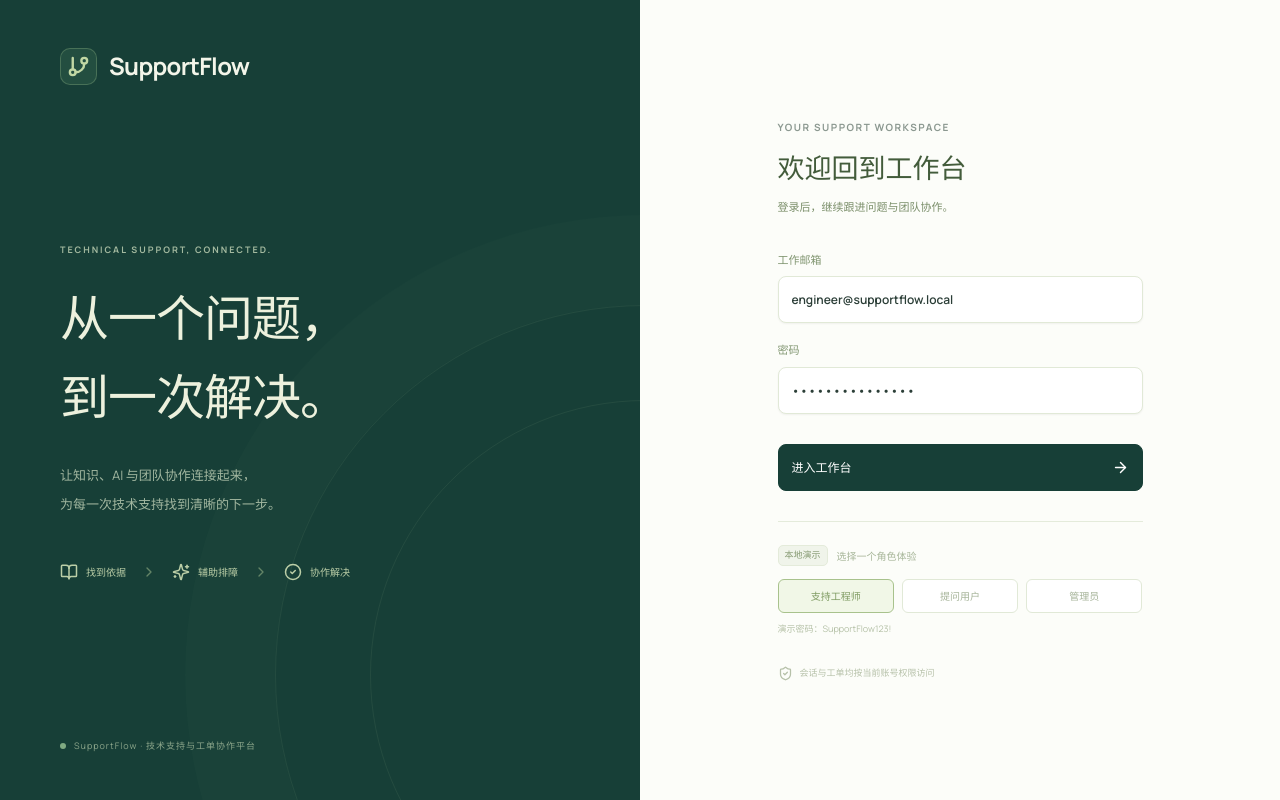
Test case: SupportFlow main workflows › keeps agent-generated drafts pending until the user confirms
Click the button "进入工作台".
click(822, 468)  # box [778,444,1142,491]
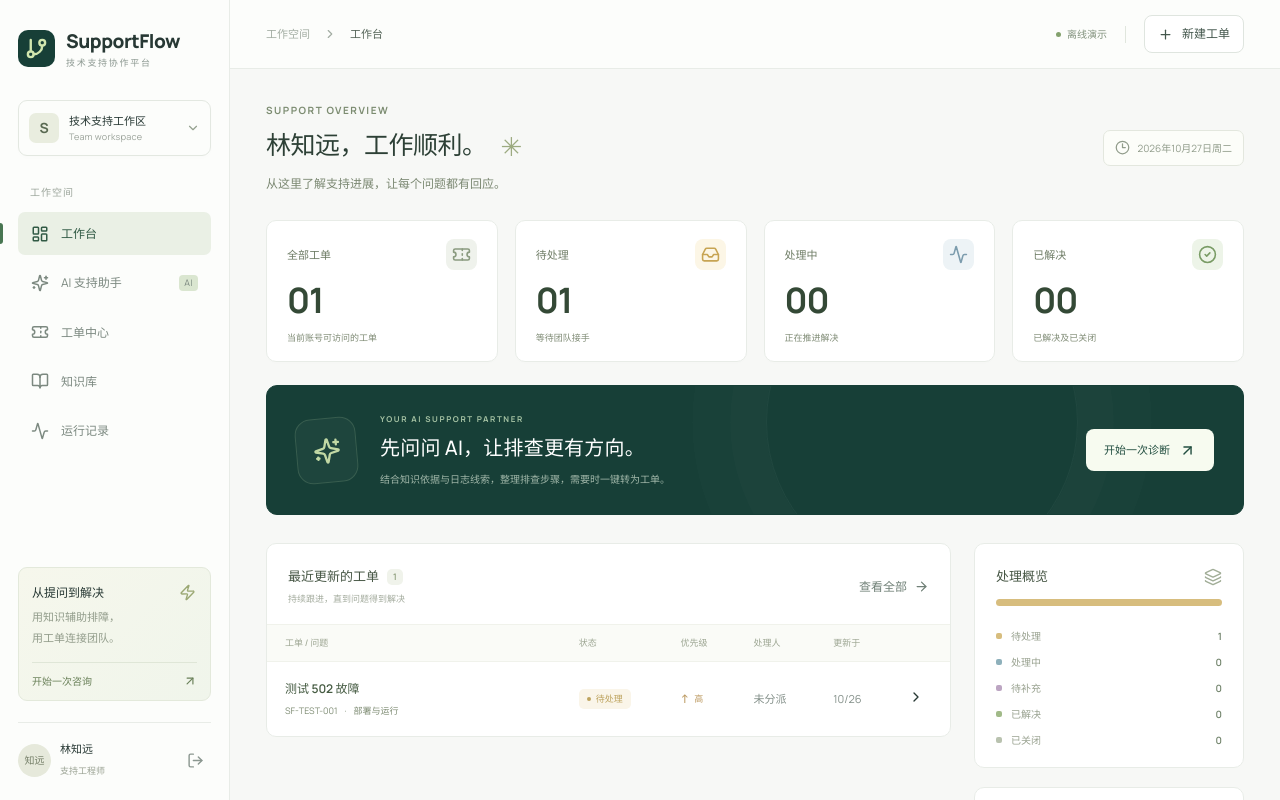
Now the heading "林知远，工作顺利。 ✳" is shown, box [266,125,522,168]
Click the button "AI 支持助手 AI".
click(114, 283)  # box [18,261,211,305]
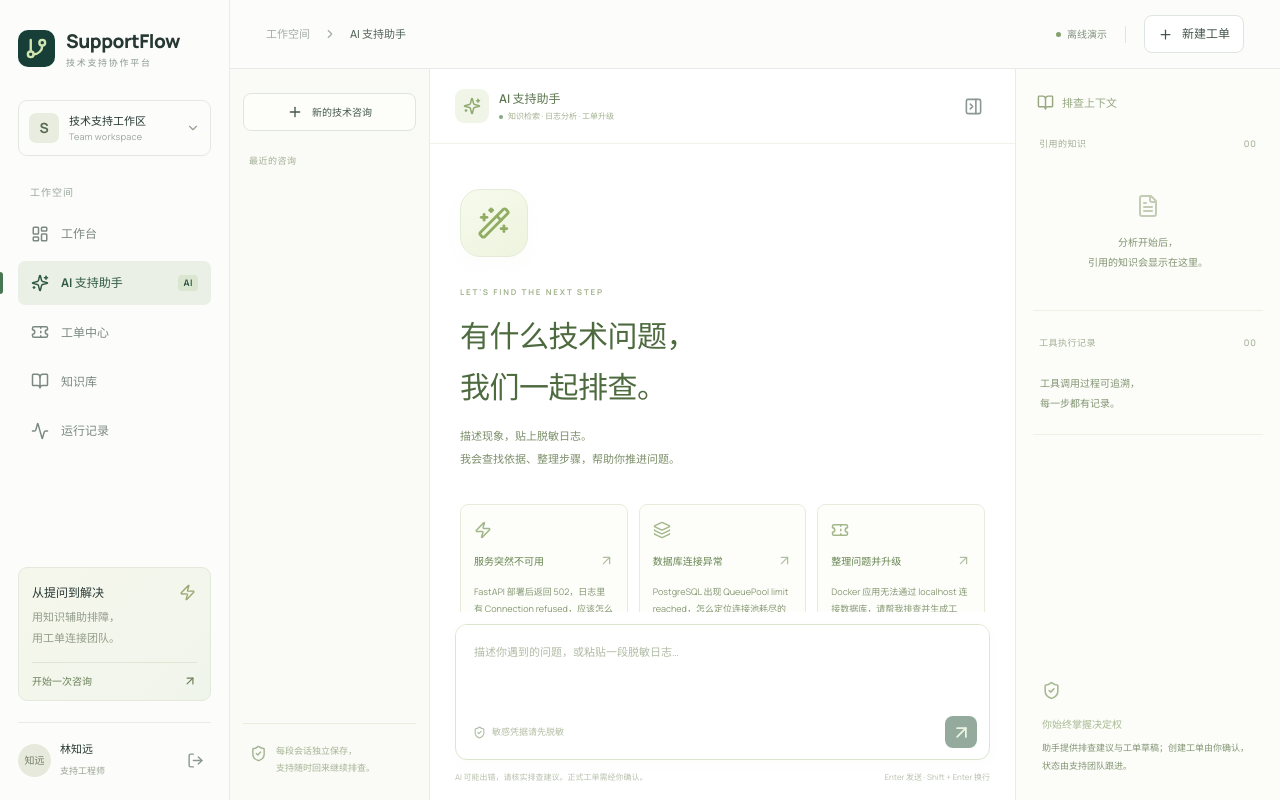
Type "FastAPI 502，请生成工单" into the text box named "描述技术问题".
click(722, 667); type("FastAPI 502，请生成工单")  # box [456,625,989,710]
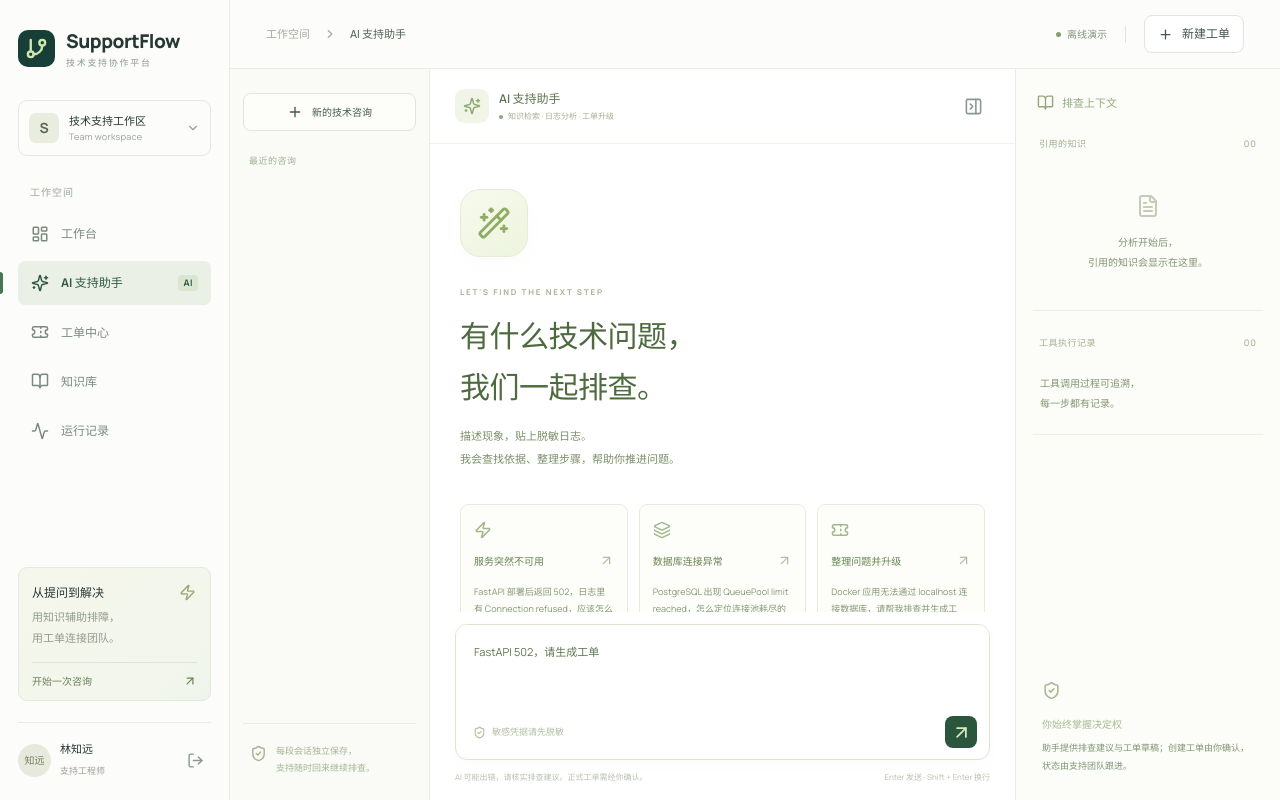
Click the button named "发送问题".
click(961, 732)  # box [945,716,977,748]
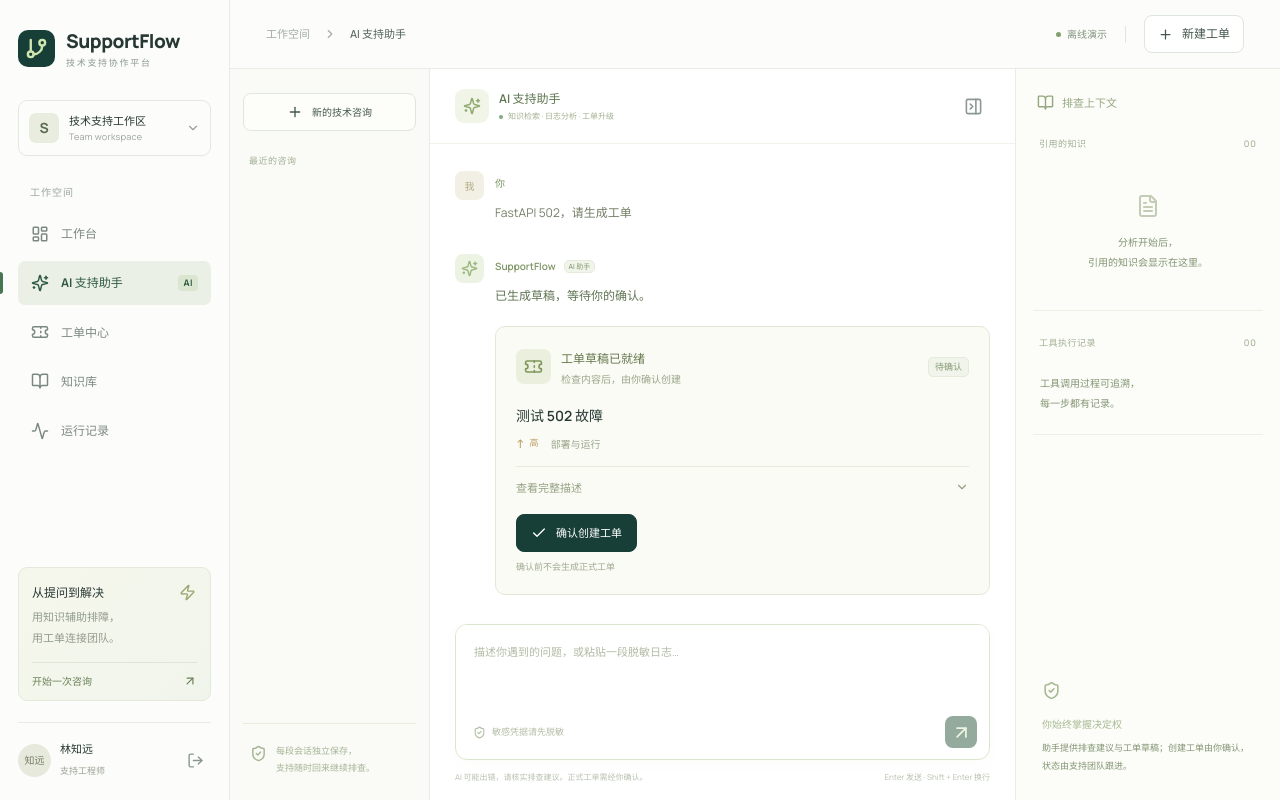
Click the button "确认创建工单".
click(576, 533)  # box [516,514,637,552]
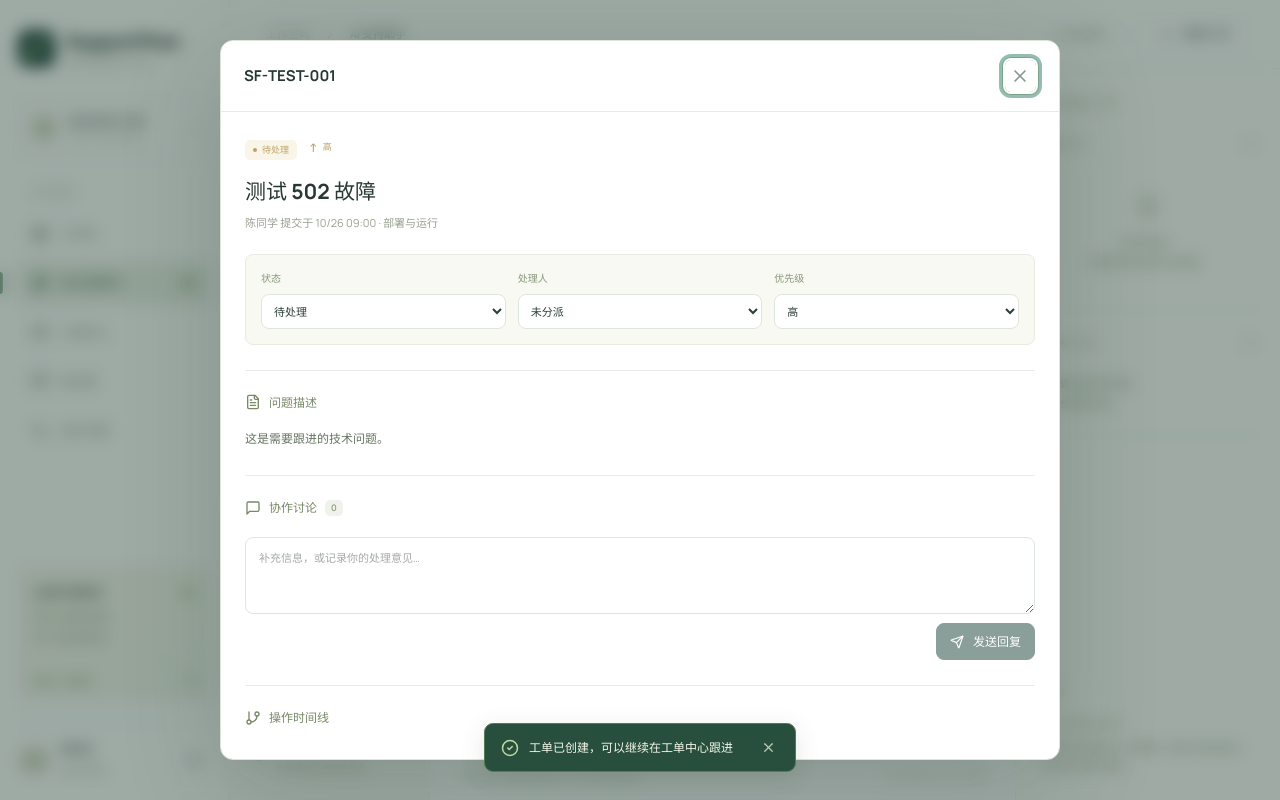
Now the heading "SF-TEST-001" is shown, box [244,64,336,88]
